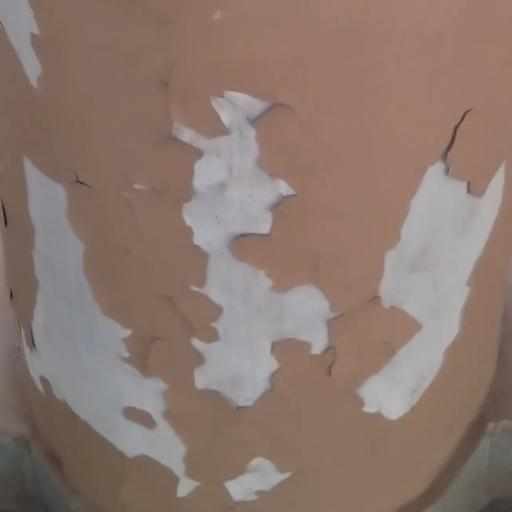peeling: (0, 141, 202, 512), (146, 51, 343, 415), (352, 107, 512, 417), (0, 0, 66, 102), (214, 442, 293, 512)
